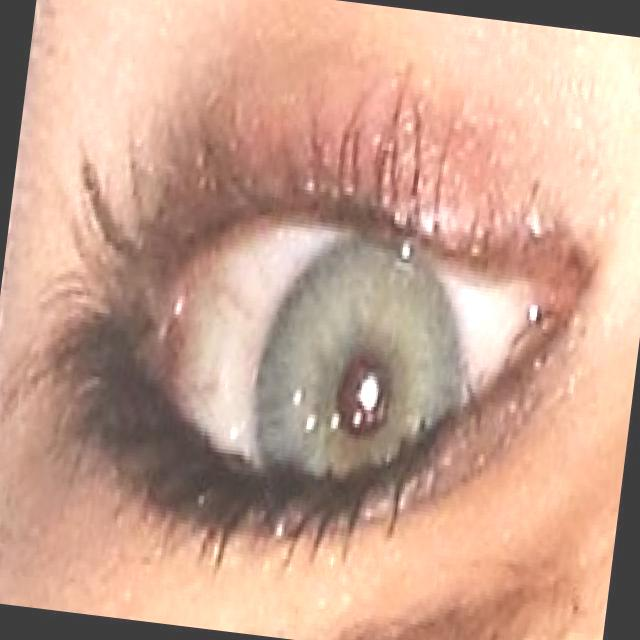Normal: (37, 123, 593, 569)
